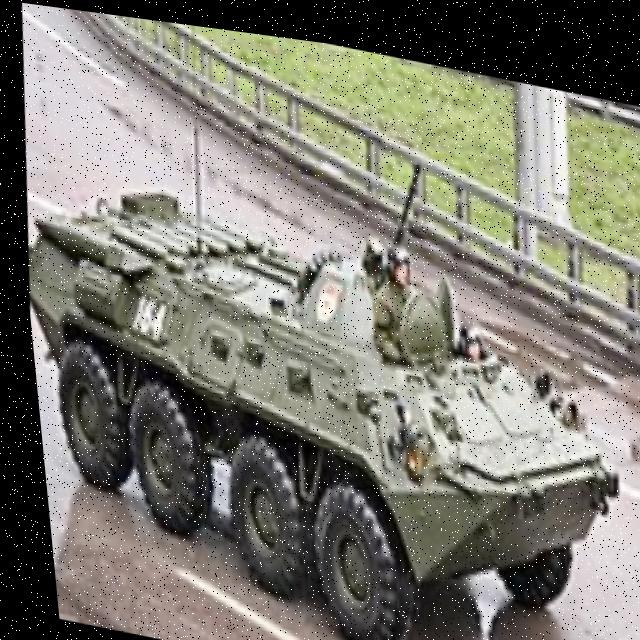MIL_APC: (9, 121, 640, 640)
